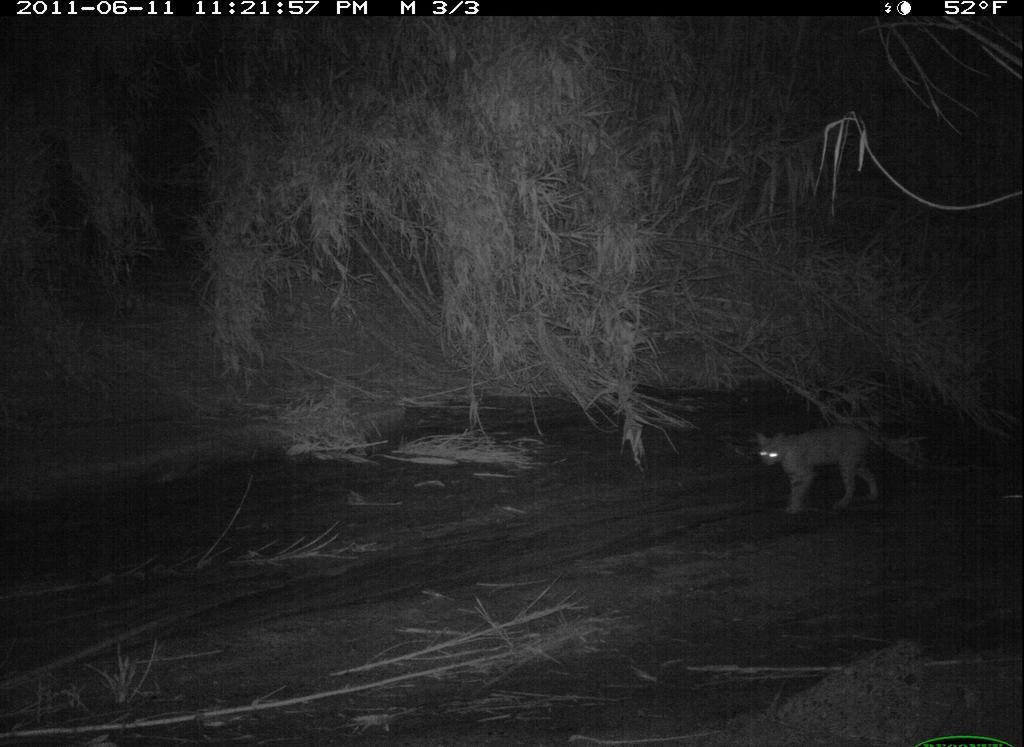bobcat: (747, 415, 889, 518)
